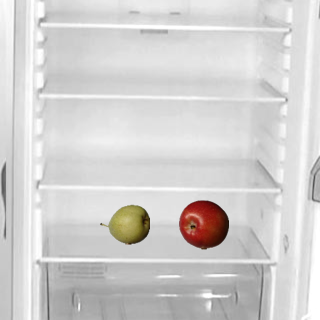Apple Braeburn: (178, 199, 228, 249)
Pear: (99, 199, 149, 249)
